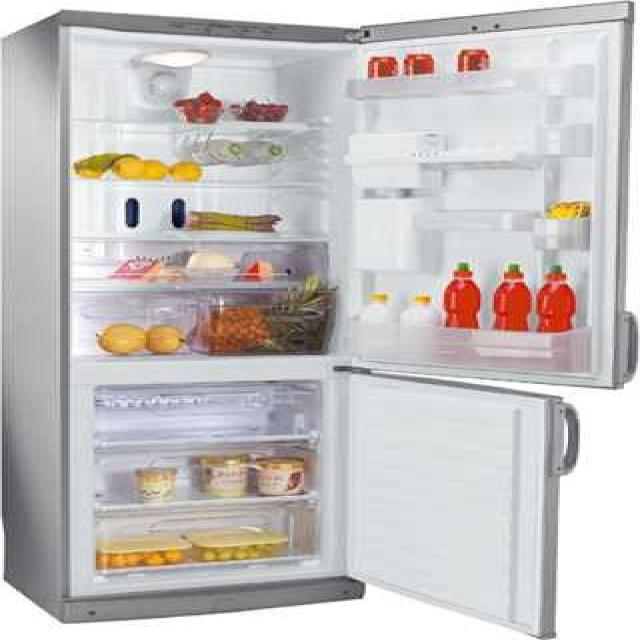refrigerator: (57, 12, 424, 587)
